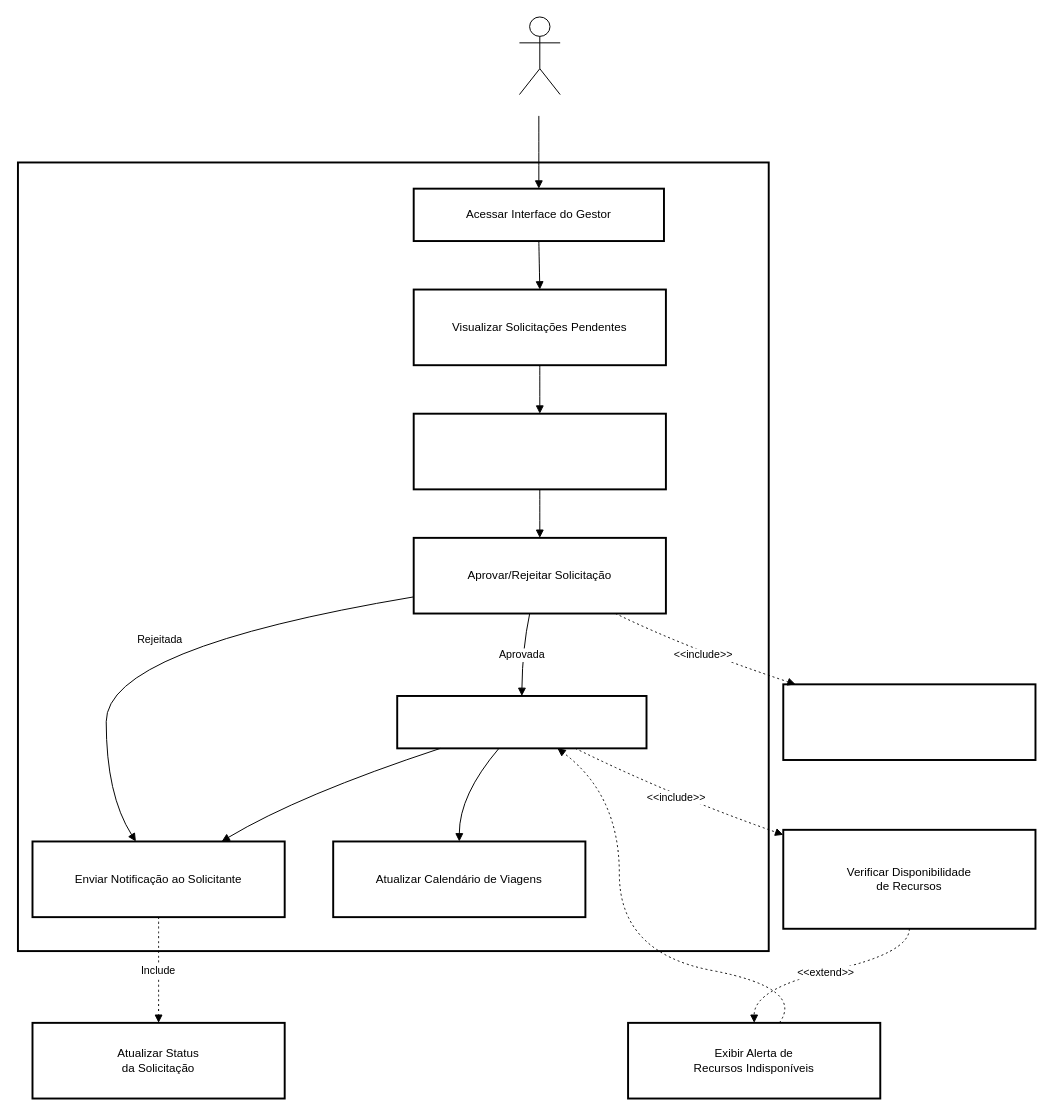
Some shapes in this 1052 by 1116 pixel diagram are drawn without their labels. Here are the shapes that lost their labels. From the top down, the centre of each, then its label:
At point 539,55: "Gestor".
At point 539,451: "Analisar Detalhes da Solicitação".
At point 521,722: "Atribuir Motorista e Veículo".
At point 909,721: "Registrar Decisão no Sistema".
